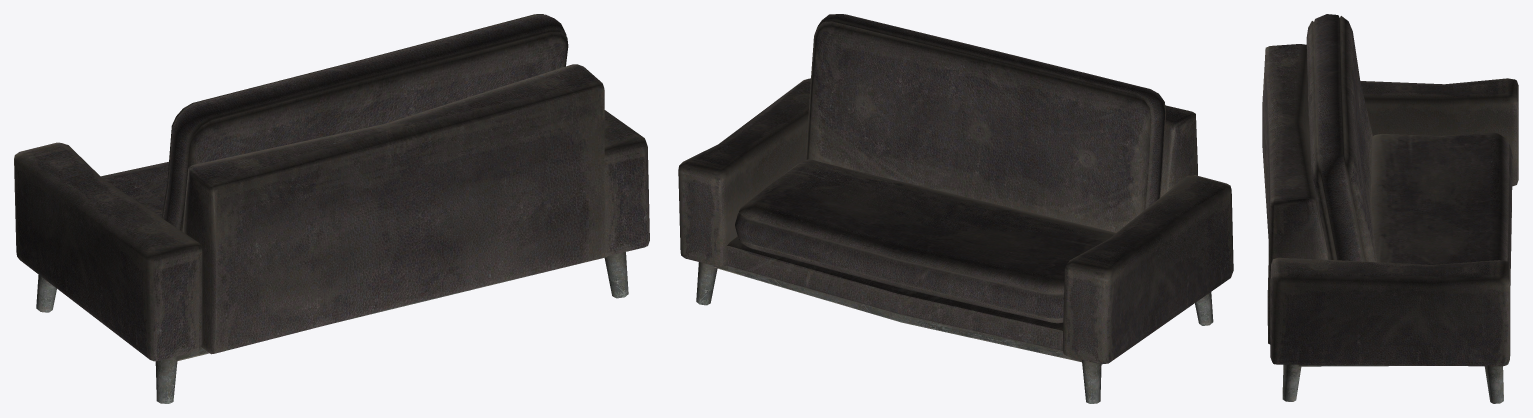
The model's file is OfficeCouch01.obj.
3 renders of one model, left to right at view 1: azimuth 30°, elevation 25°; view 2: azimuth 150°, elevation 25°; view 3: azimuth 270°, elevation 25°, orthographic. The views are drawn at different scales.
Parts seen in each view (by area): view 1: OfficeCouch01_19; view 2: OfficeCouch01_19; view 3: OfficeCouch01_19.
Part boxes in pixels (bbox=[...]): OfficeCouch01_19: bbox=[14, 14, 649, 403]; OfficeCouch01_19: bbox=[678, 14, 1233, 403]; OfficeCouch01_19: bbox=[1262, 14, 1518, 403].
Bounding box in the file's own units: 135 × 69.97 × 71.92.
1 material, 1 textured.
